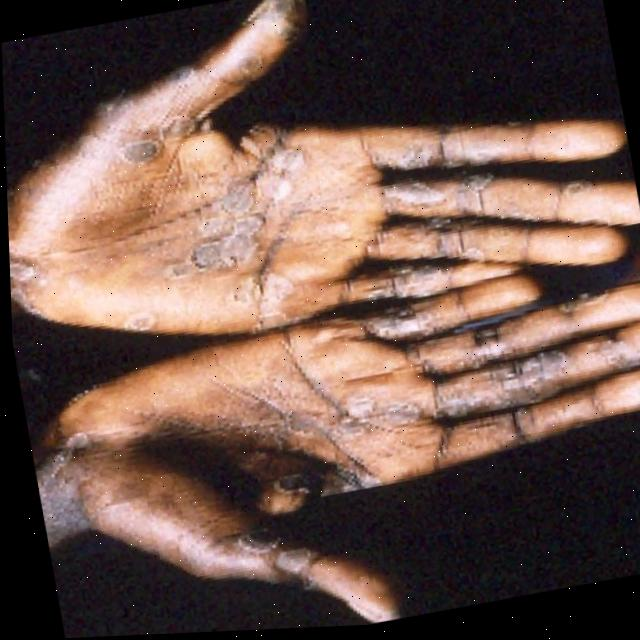Eczema: (73, 22, 640, 548)
